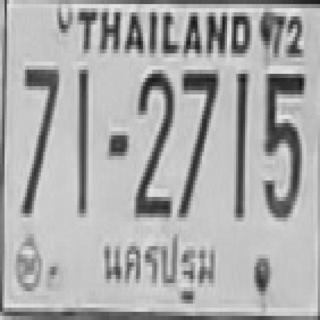N01: (75, 66, 86, 213), (234, 68, 245, 215)
N02: (136, 70, 174, 217)
N05: (261, 72, 304, 220)
N07: (180, 71, 218, 218), (22, 67, 58, 214)
P28: (96, 231, 220, 305)
